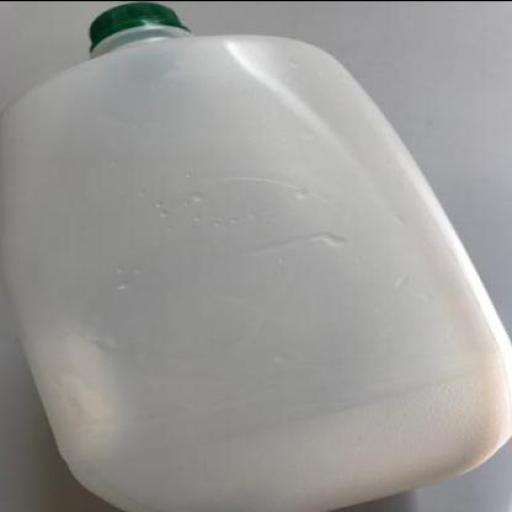plastic: (1, 1, 511, 511), (87, 1, 196, 52)
